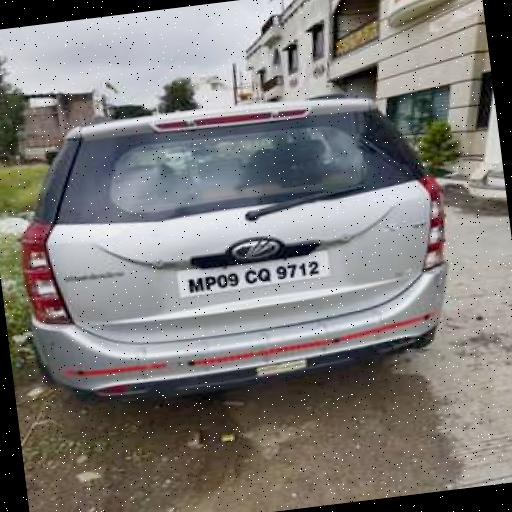license_plate`: (172, 246, 329, 300)
